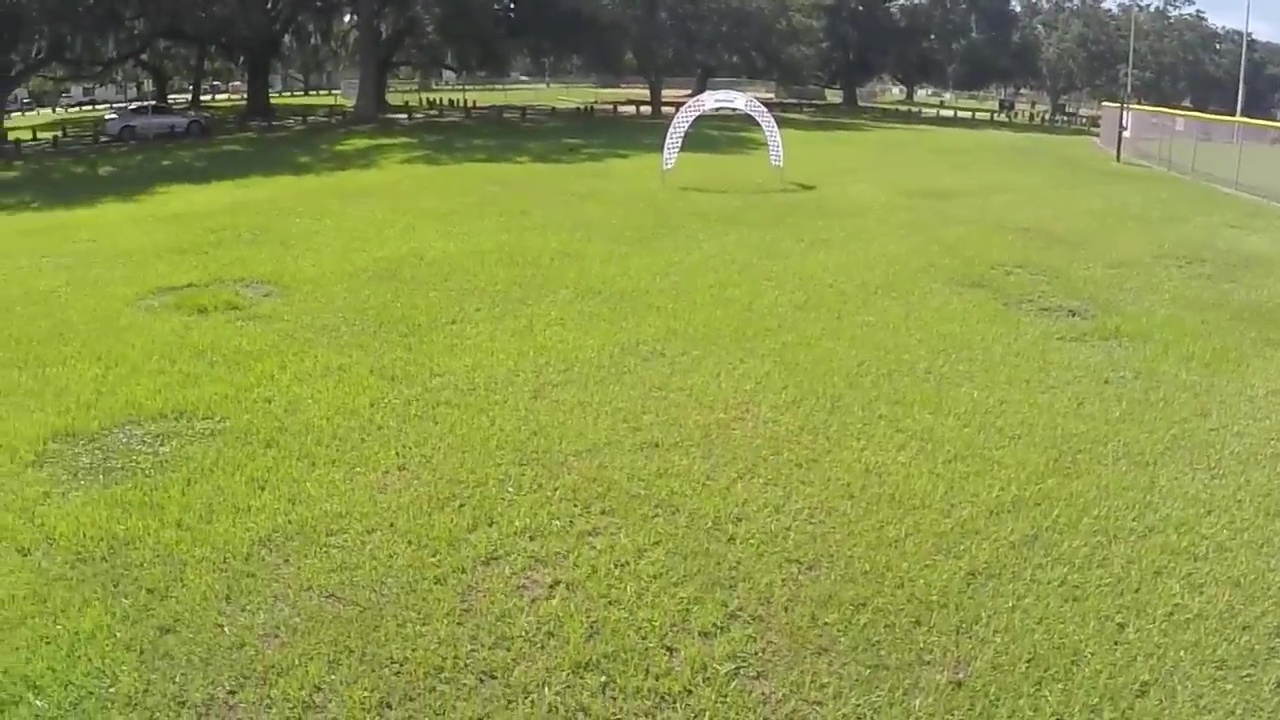gate: (662, 89, 785, 175)
